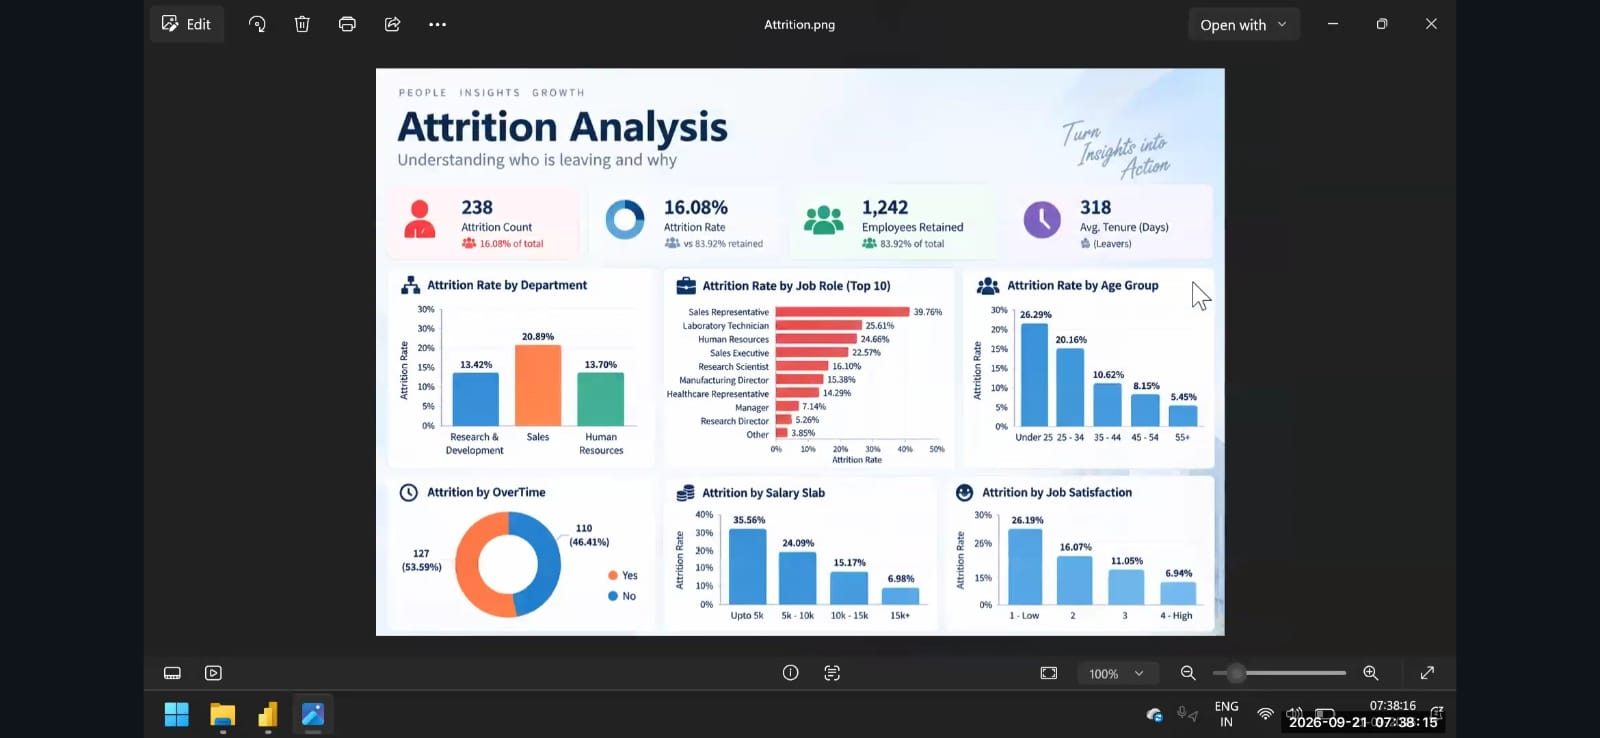

This screenshot's page, from the dashboard's own definition file:
{"tool":"powerbi","page":{"name":"Attrition Analysis","canvas":[1280,720],"ordinal":2},"visuals":[{"type":"shape","box":[0,0,234,720.2],"z":0},{"type":"textbox","box":[21.7,127.9,178.6,48.3],"z":1000},{"type":"actionButton","box":[83.2,229.2,105,39.8],"z":2000},{"type":"actionButton","box":[83.2,294.4,127.9,39.8],"z":3000},{"type":"actionButton","box":[83.2,360.7,152,39.8],"z":4000},{"type":"actionButton","box":[86.9,424.7,142.4,66.4],"z":5000},{"type":"actionButton","box":[86.9,507.9,141.2,57.9],"z":6000},{"type":"image","box":[63.9,30.2,106.2,97.7],"z":7000},{"type":"image","box":[31.4,229.2,42.2,39.8],"z":8000},{"type":"image","box":[30.2,361.9,42.2,39.8],"z":9000},{"type":"image","box":[30.2,294.4,42.2,39.8],"z":10000},{"type":"image","box":[30.2,436.7,42.2,39.8],"z":11000},{"type":"image","box":[30.2,516.4,42.2,39.8],"z":12000},{"type":"actionButton","box":[30.2,628.6,150.8,55.5],"z":13000},{"type":"textbox","box":[249.7,12.1,352.3,55.5],"z":14000},{"type":"cardVisual","fields":{"Data":["measure.Total Attrition"]},"box":[280.9,143.2,193,98.9],"z":14002,"group":"g1"},{"type":"cardVisual","fields":{"Data":["measure.Attrition Rate"]},"box":[534.5,143.6,193,98.9],"z":14003,"group":"g1"},{"type":"cardVisual","fields":{"Data":["measure.Employees Retained"]},"box":[792.6,143.6,193,98.9],"z":14004,"group":"g1"},{"type":"cardVisual","fields":{"Data":["measure.Avg Tenure"]},"box":[1053.2,142.4,193,98.9],"z":14005,"group":"g1"},{"type":"textbox","box":[235.3,39.8,416.2,109.8],"z":14006},{"type":"image","box":[294.1,155.2,53.1,37.4],"z":14007,"group":"g1"},{"type":"image","box":[542.9,152.1,57.9,32.6],"z":14008,"group":"g1"},{"type":"image","box":[805.9,156.9,41,31.4],"z":14009,"group":"g1"},{"type":"image","box":[1065.3,152.1,48.3,42.2],"z":14010,"group":"g1"},{"type":"group","id":"g1","title":"Group 1","box":[280.9,142.4,965.4,100.1],"z":14011},{"type":"clusteredColumnChart","fields":{"Category":["Dim_Department.Department"],"Y":["measure.Attrition Rate"]},"box":[258.2,259.4,313.7,165.3],"z":14012},{"type":"clusteredBarChart","fields":{"Category":["Dim_JobRole.JobRole"],"Y":["measure.Attrition Rate"]},"box":[583.9,260.6,334.2,165.3],"z":14013},{"type":"clusteredColumnChart","fields":{"Category":["Dim_Employee.AgeGroup"],"Y":["measure.Attrition Rate"]},"box":[942.2,260.6,319.7,164.1],"z":14014},{"type":"donutChart","fields":{"Category":["hr_analytics.OverTime"],"Y":["measure.Attrition Rate"]},"box":[254.6,441.6,319.7,201.5],"z":14015},{"type":"clusteredColumnChart","fields":{"Category":["Dim_SalarySlab.SalarySlab"],"Y":["measure.Attrition Rate"]},"box":[612.9,441.6,319.7,201.5],"z":14016},{"type":"clusteredColumnChart","fields":{"Category":["hr_analytics.JobSatisfaction"],"Y":["measure.Attrition Rate"]},"box":[953.1,436.7,319.7,275.1],"z":14017}]}

Visuals, with their boxes on the page's 1280x720 design canvas (x1, y1, x2, y2). These are canvas units, not pixel positions in the 1600x738 screenshot, which may show the page scaled, cropped or inside an application window:
shape: 0 0 234 720
textbox: 22 128 200 176
actionButton: 83 229 188 269
actionButton: 83 294 211 334
actionButton: 83 361 235 400
actionButton: 87 425 229 491
actionButton: 87 508 228 566
image: 64 30 170 128
image: 31 229 74 269
image: 30 362 72 402
image: 30 294 72 334
image: 30 437 72 476
image: 30 516 72 556
actionButton: 30 629 181 684
textbox: 250 12 602 68
cardVisual - measure.Total Attrition: 281 143 474 242
cardVisual - measure.Attrition Rate: 534 144 728 242
cardVisual - measure.Employees Retained: 793 144 986 242
cardVisual - measure.Avg Tenure: 1053 142 1246 241
textbox: 235 40 652 150
image: 294 155 347 193
image: 543 152 601 185
image: 806 157 847 188
image: 1065 152 1114 194
"Group 1" group: 281 142 1246 242
clusteredColumnChart - Dim_Department.Department x measure.Attrition Rate: 258 259 572 425
clusteredBarChart - Dim_JobRole.JobRole x measure.Attrition Rate: 584 261 918 426
clusteredColumnChart - Dim_Employee.AgeGroup x measure.Attrition Rate: 942 261 1262 425
donutChart - hr_analytics.OverTime x measure.Attrition Rate: 255 442 574 643
clusteredColumnChart - Dim_SalarySlab.SalarySlab x measure.Attrition Rate: 613 442 933 643
clusteredColumnChart - hr_analytics.JobSatisfaction x measure.Attrition Rate: 953 437 1273 712
